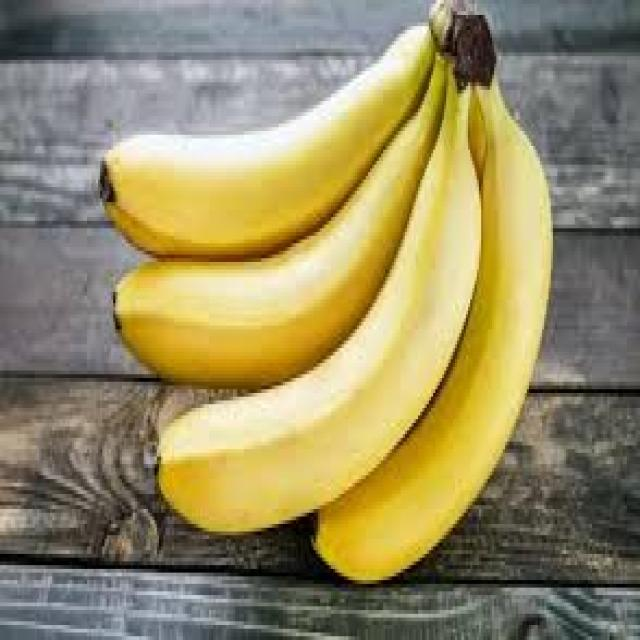banana: (98, 0, 553, 584)
